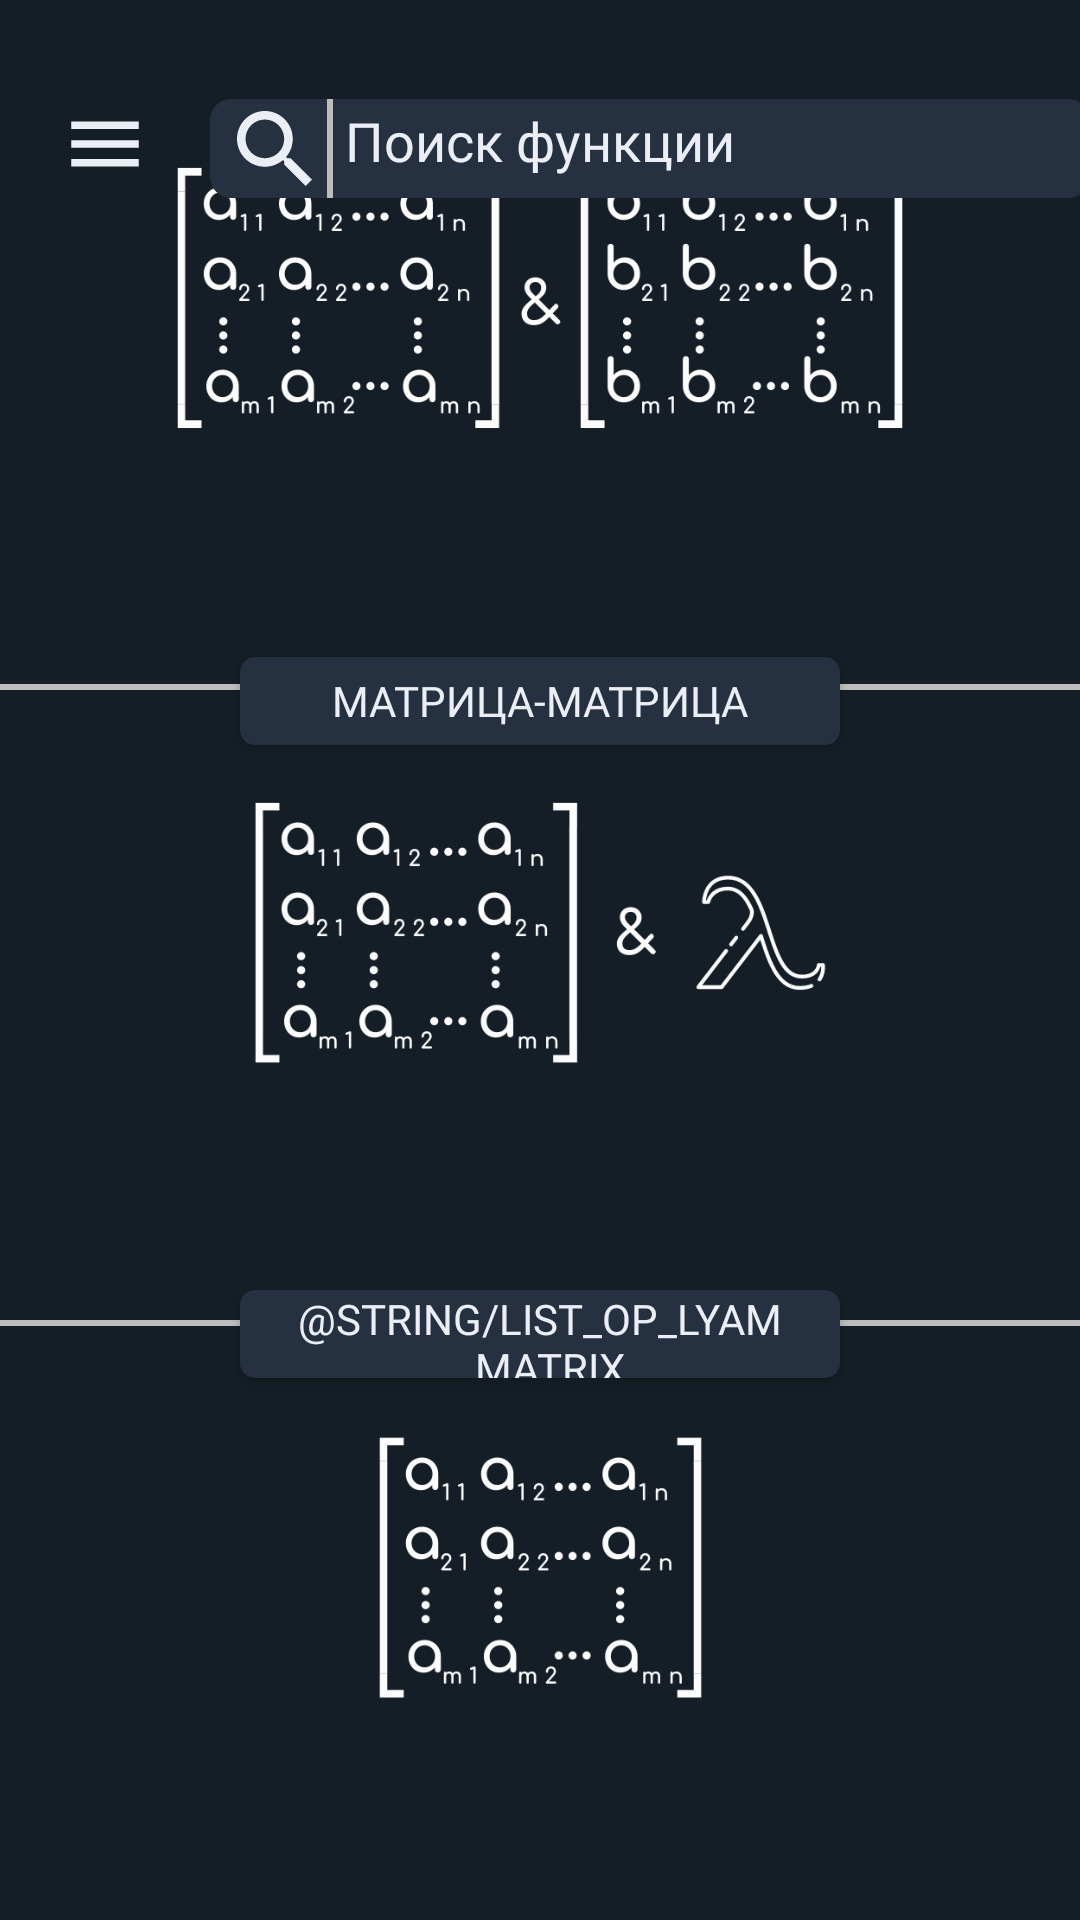

Point at icon controls on the screen. Image size 1080×1920, points as point (x, y).
nav: point (105, 144)
